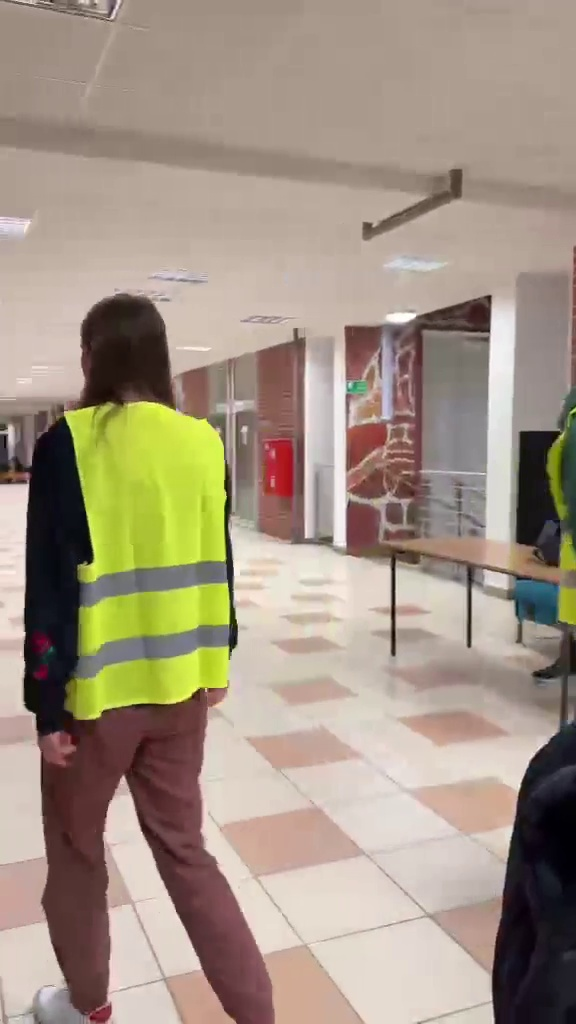vest: (22, 281, 274, 1001)
